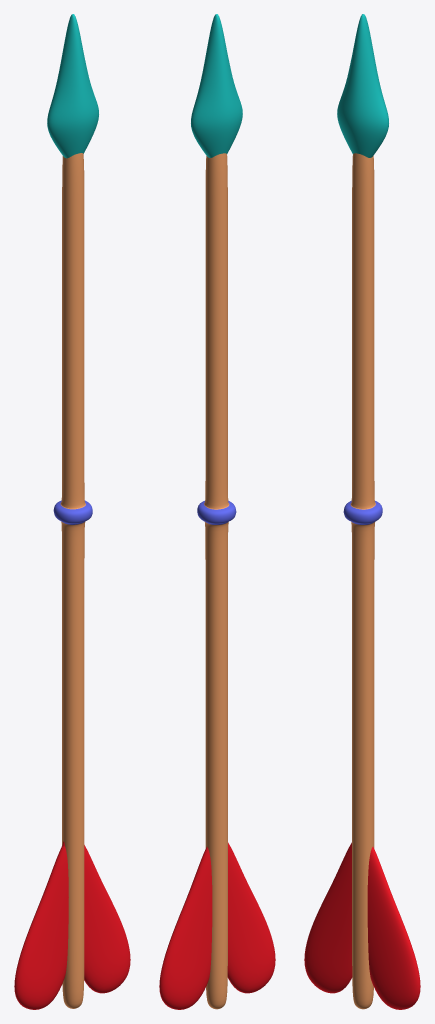
Rendered from Arrow.fbx.
The picture shows the model from 3 angles, left to right: view 1: azimuth 30°, elevation 25°; view 2: azimuth 210°, elevation 25°; view 3: azimuth 330°, elevation 25°; orthographic projection.
Visible parts, largest first — view 1: Arrow; view 2: Arrow; view 3: Arrow.
Boxes of the visible parts, left/top/right/bottom form: Arrow: left=14, top=14, right=130, bottom=1009; Arrow: left=159, top=14, right=275, bottom=1009; Arrow: left=304, top=14, right=420, bottom=1009.
Size of the model in its own units: 19.14 by 158 by 5.5.
